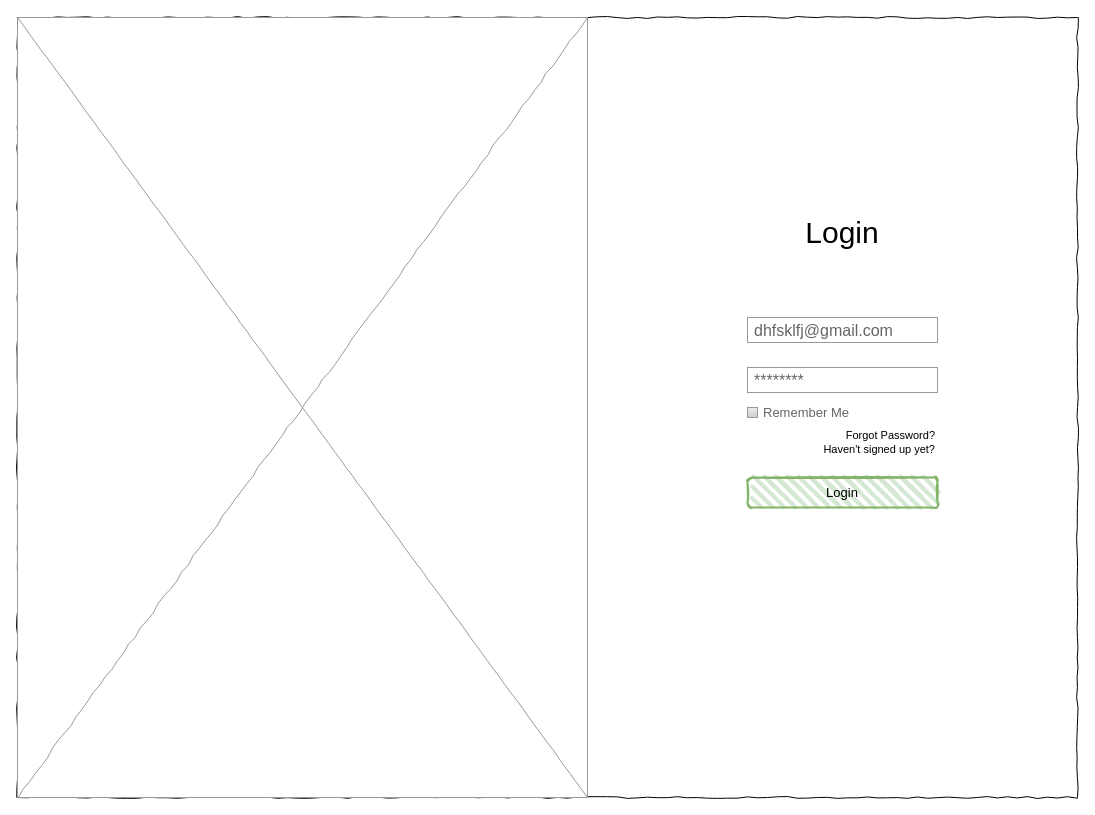
The diagram is 1095 pixels wide and 815 high, and some of its shapes have lost their labels. The shapes that lost their labels are listed below. From the top down, each one's centre as x and y in pixels, then its label:
point (802, 302): Email:
point (797, 357): Password:
